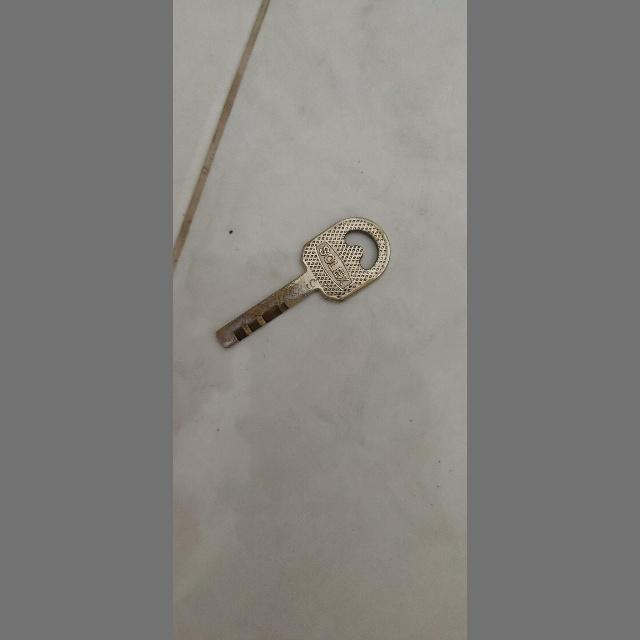Keys: (217, 202, 396, 378)
